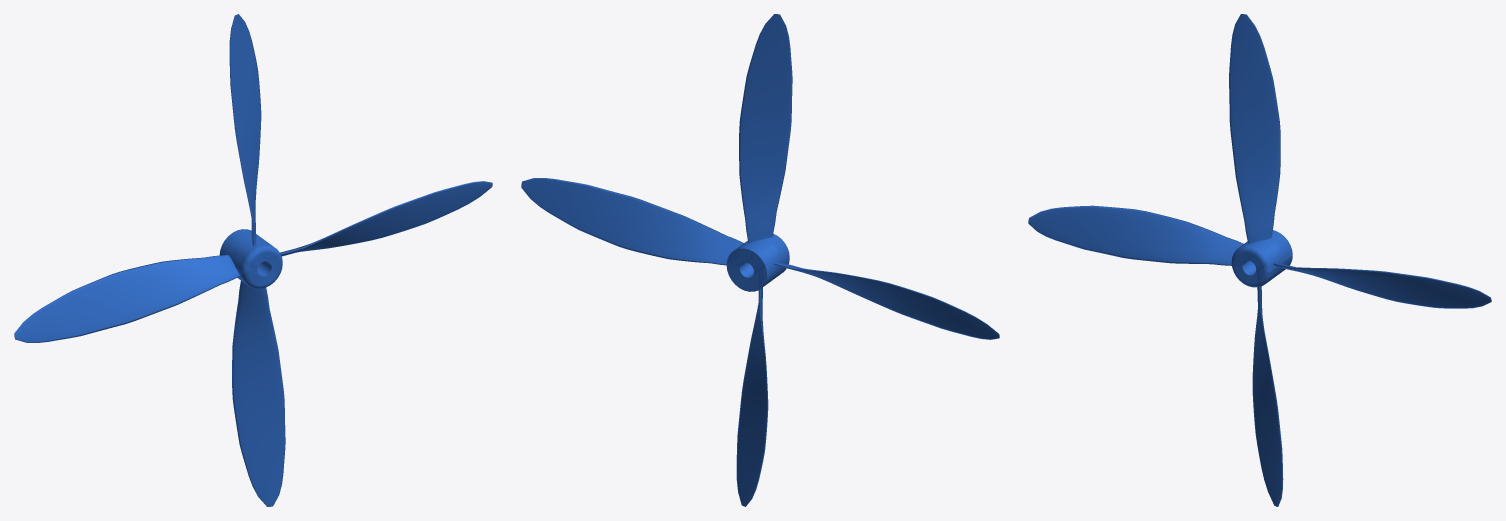
File: gemfan-2020-4.glb
3 renders of one model, left to right at view 1: azimuth 30°, elevation 25°; view 2: azimuth 150°, elevation 25°; view 3: azimuth 330°, elevation 25°, orthographic. The views are drawn at different scales.
Visible parts, largest first — view 1: blade_3, blade_4, blade_2, blade_1, hub; view 2: blade_2, blade_1, blade_4, blade_3, hub; view 3: blade_2, blade_3, blade_1, blade_4, hub.
Boxes of the visible parts, x1,y1,x2,y2 form: blade_3: (14, 255, 239, 342); blade_4: (232, 281, 285, 506); blade_2: (229, 14, 261, 246); blade_1: (280, 181, 492, 256); hub: (219, 229, 282, 288); blade_2: (739, 14, 792, 242); blade_1: (521, 178, 743, 265); blade_4: (736, 287, 768, 506); blade_3: (773, 262, 999, 339); hub: (726, 234, 789, 291); blade_2: (1229, 14, 1280, 243); blade_3: (1028, 205, 1243, 265); blade_1: (1273, 262, 1491, 308); blade_4: (1252, 286, 1283, 506); hub: (1231, 230, 1292, 287).
Bounding box in the file's own units: 50.3 × 50.3 × 4.5.
